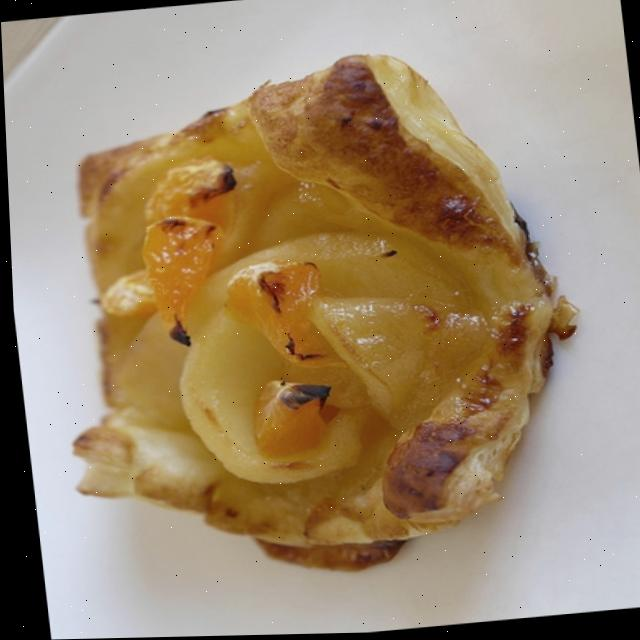炸货点心: (14, 41, 591, 597)
蛋糕甜品: (14, 41, 591, 597)
